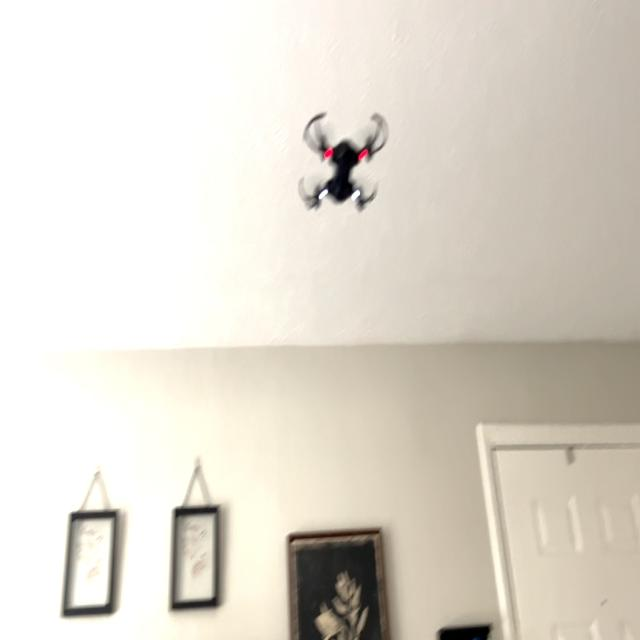drone: (292, 91, 396, 223)
